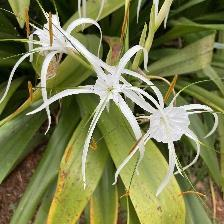spider lily: (31, 32, 176, 204)
